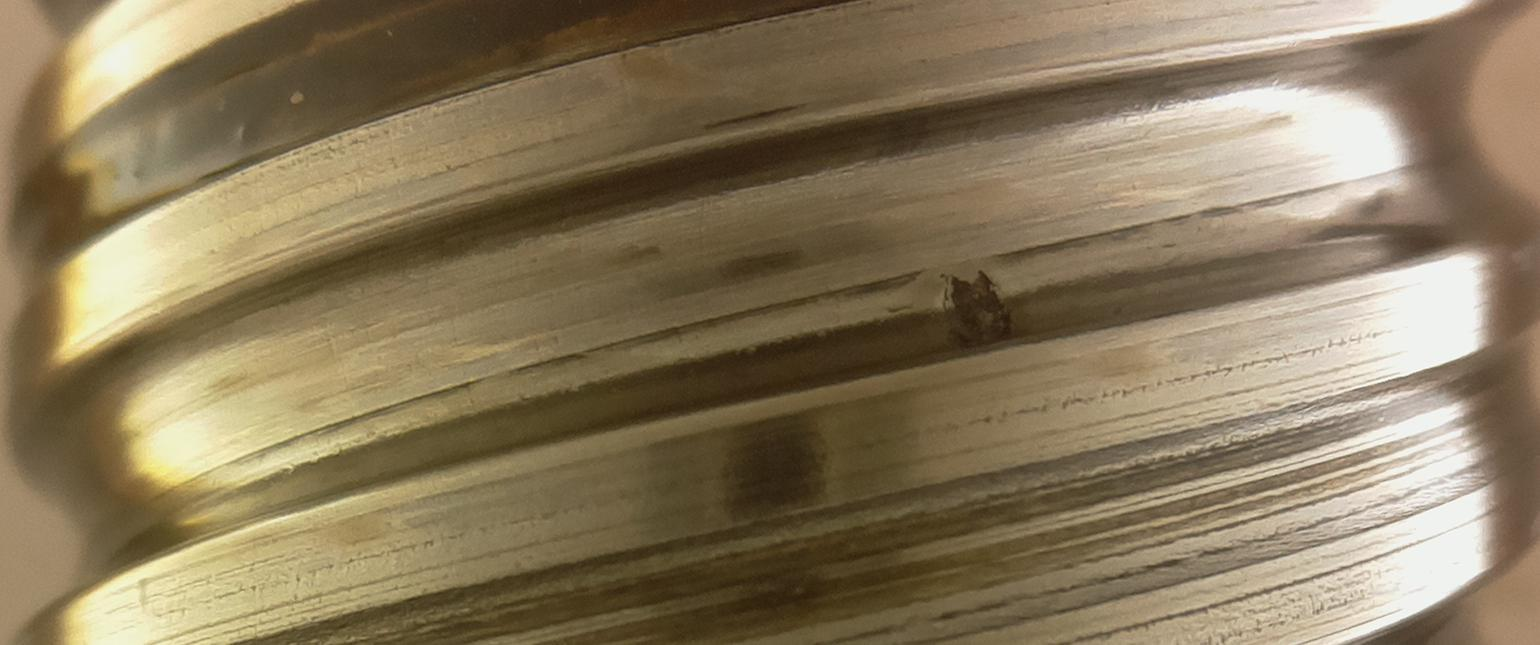pitting: (939, 271, 1012, 351)
